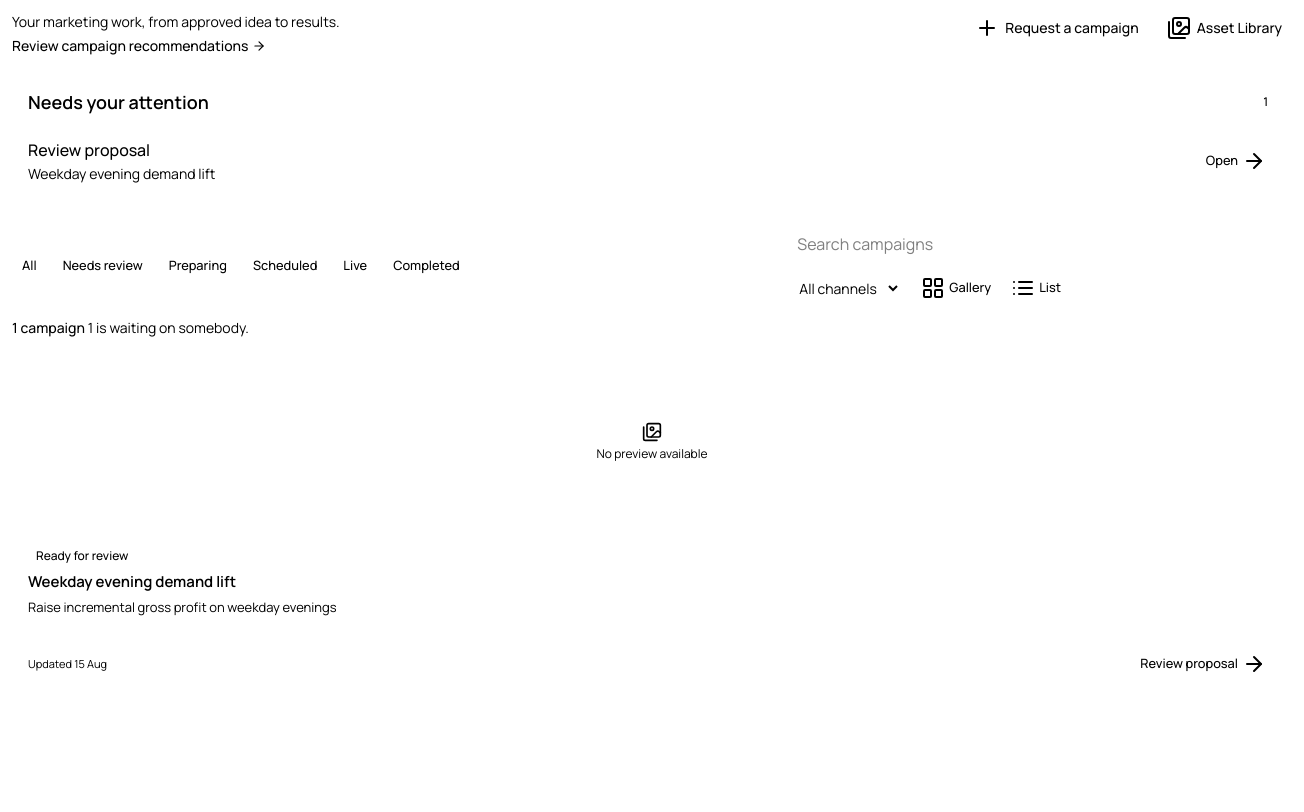
Scenario: the portfolio states only what the campaign has produced › distinguishes no paid spend from a ceiling of zero
The width and height of the screenshot is (1304, 812).
What coordinates should you click on to do the following:
click the button "List"
I would click on:
 (1036, 288)
Its box is [1001, 274, 1071, 302].
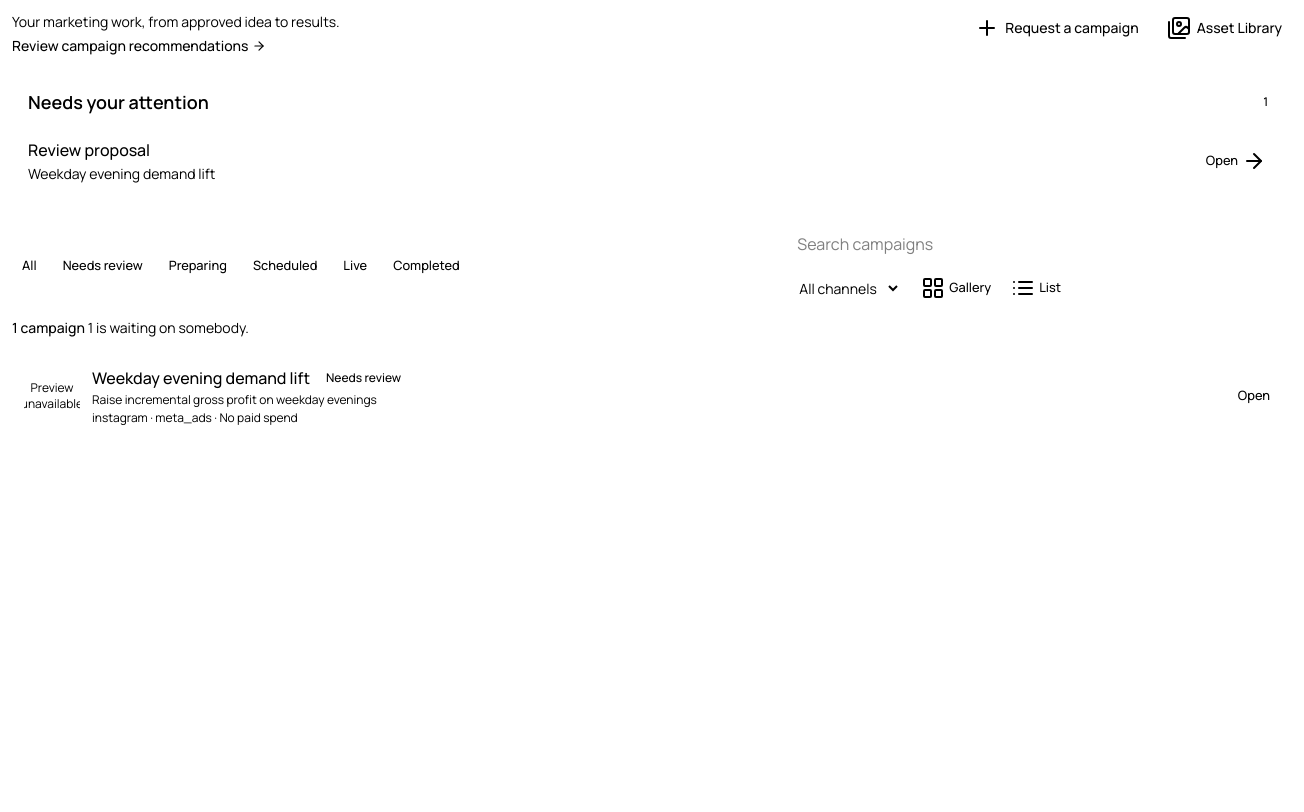
Result: the text "instagram · meta_ads · No paid spend" is shown at [92, 409, 298, 426]
